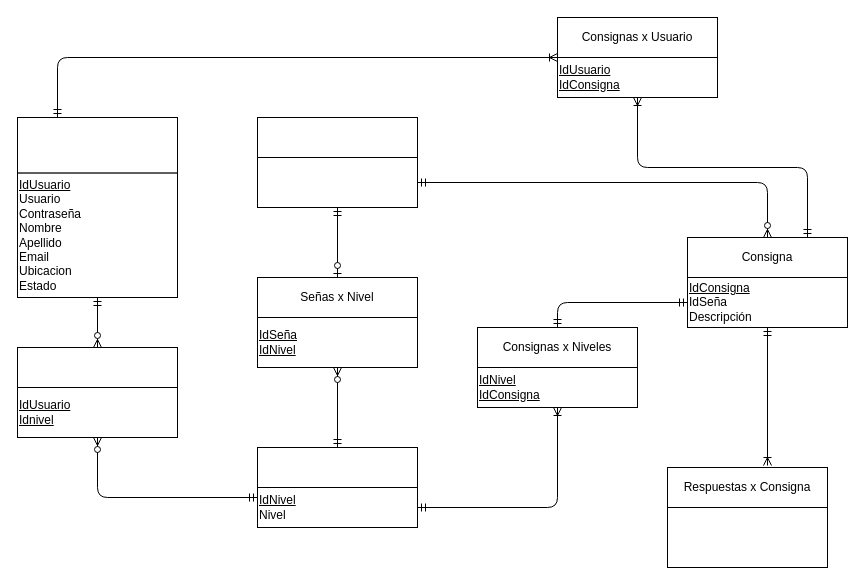
Some shapes in this 865 by 585 pixel diagram are drawn without their labels. Each missing label, with the box of its shape:
IdConsigna IdRespuesta Descripcion Resultado: (666, 506, 828, 568)
IdSeña Seña Descripción: (256, 156, 418, 208)
Niveles: (256, 446, 418, 488)
Niveles x Usuario: (16, 346, 178, 388)
Señas: (256, 116, 418, 158)
Usuarios: (16, 116, 178, 173)
